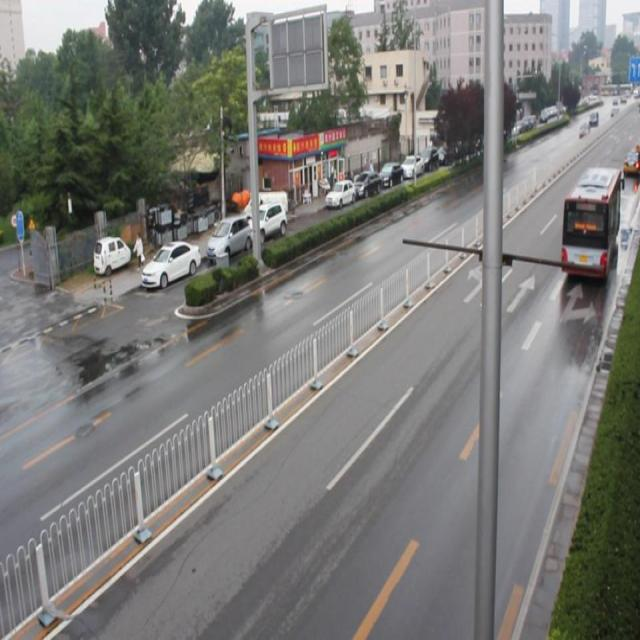van: (559, 166, 622, 274)
